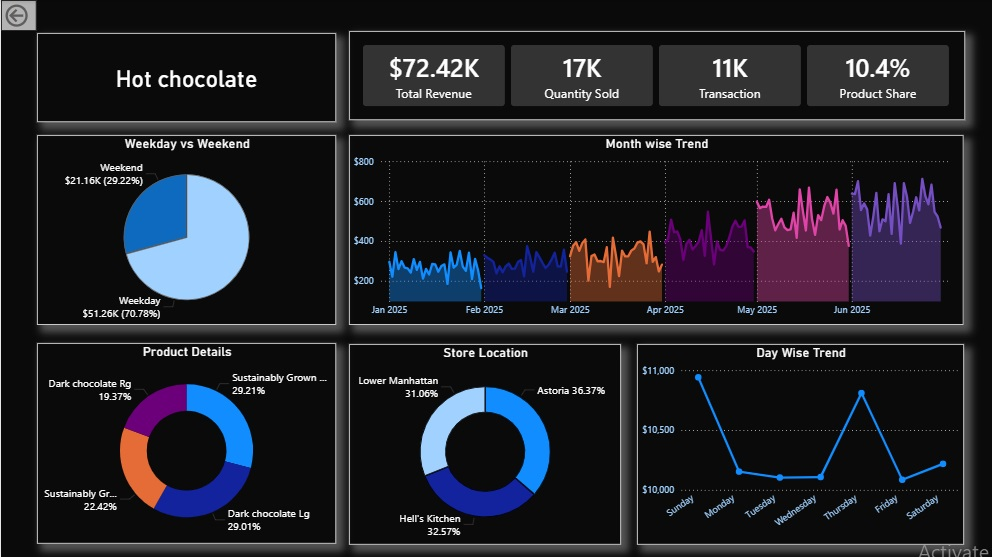

The page's visual inventory and layout, read from the dashboard file:
{"tool":"powerbi","page":{"name":"Specific Product","canvas":[1280,720],"ordinal":5},"visuals":[{"type":"card","fields":{"Values":["Sales.Selected Product"]},"box":[46.1,43.2,385.9,115.2],"z":0},{"type":"actionButton","box":[0,0,46.1,40.3],"z":1000},{"type":"cardVisual","fields":{"Data":["Sales.Total Revenue","Sales.Total Quantity Sold","Sales.Total Transaction","Sales.Share"]},"box":[449.3,40.3,795,115],"z":2000},{"type":"lineChart","title":"Month wise Trend","fields":{"Category":["Sales.transaction_date"],"Series":["Calender.Month Name"],"Y":["Sales.Total Revenue"]},"box":[449.3,174.2,793.4,244.8],"z":3000},{"type":"pieChart","title":"Weekday vs Weekend","fields":{"Category":["Calender.Week type"],"Y":["Sales.Total Revenue"]},"box":[46.1,174.2,385.9,244.8],"z":4000},{"type":"donutChart","title":"Product Details","fields":{"Y":["Sales.Total Revenue"],"Category":["Product.product_detail"]},"box":[46,443,386,259],"z":5000},{"type":"donutChart","title":"Store Location","fields":{"Category":["Stores.store_location"],"Y":["Sales.Total Revenue"]},"box":[449.3,443.5,351.4,259.2],"z":6000},{"type":"lineChart","title":"Day Wise Trend","fields":{"Category":["Calender.Day"],"Y":["Sales.Total Revenue"]},"box":[820.8,443.5,421.9,259.2],"z":7000}]}

Visuals, with their boxes in screenshot pixels (x1, y1, x2, y2), scaled from the page's 1280x720 canvas onto the 992x557 screenshot:
card - Sales.Selected Product: crop(36, 33, 335, 123)
actionButton: crop(0, 0, 36, 31)
cardVisual - Sales.Total Revenue x Sales.Total Quantity Sold: crop(348, 31, 964, 120)
"Month wise Trend" lineChart: crop(348, 135, 963, 324)
"Weekday vs Weekend" pieChart: crop(36, 135, 335, 324)
"Product Details" donutChart: crop(36, 343, 335, 543)
"Store Location" donutChart: crop(348, 343, 621, 544)
"Day Wise Trend" lineChart: crop(636, 343, 963, 544)
